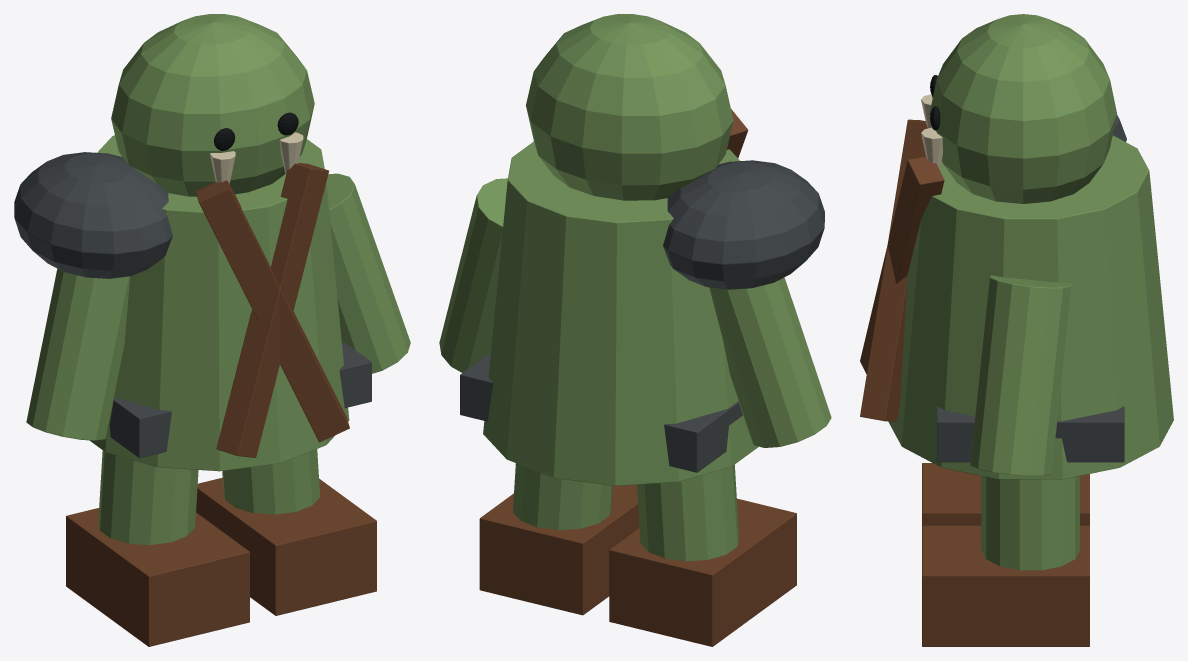
The model's file is CH_Orc.fbx.
3 renders of one model, left to right at view 1: azimuth 30°, elevation 25°; view 2: azimuth 150°, elevation 25°; view 3: azimuth 270°, elevation 25°, orthographic. The views are drawn at different scales.
Parts seen in each view (by area): view 1: CH_Orc; view 2: CH_Orc; view 3: CH_Orc.
Part boxes in pixels (x1,y1,x2,y2): CH_Orc: [14, 14, 410, 646]; CH_Orc: [439, 14, 831, 646]; CH_Orc: [860, 14, 1173, 646].
Size of the model in its own units: 176 by 127 by 253.
